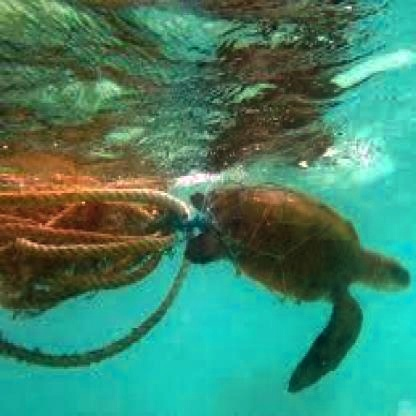net: (2, 187, 192, 371)
